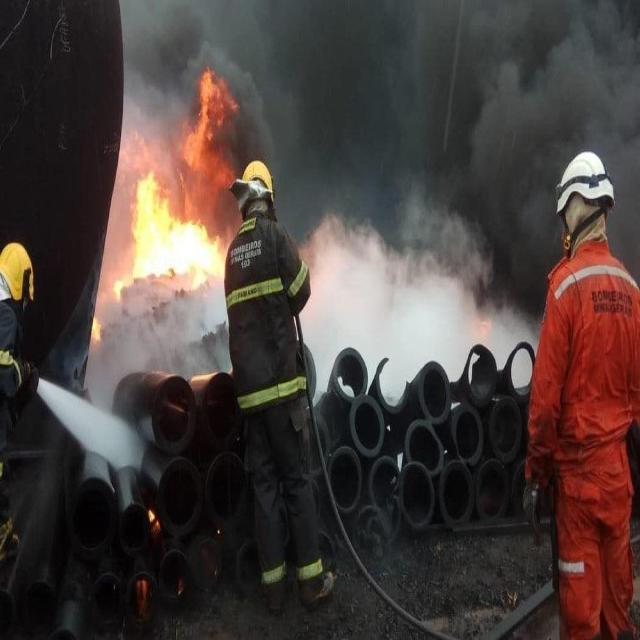Fire: (110, 74, 243, 302), (90, 315, 104, 341)
